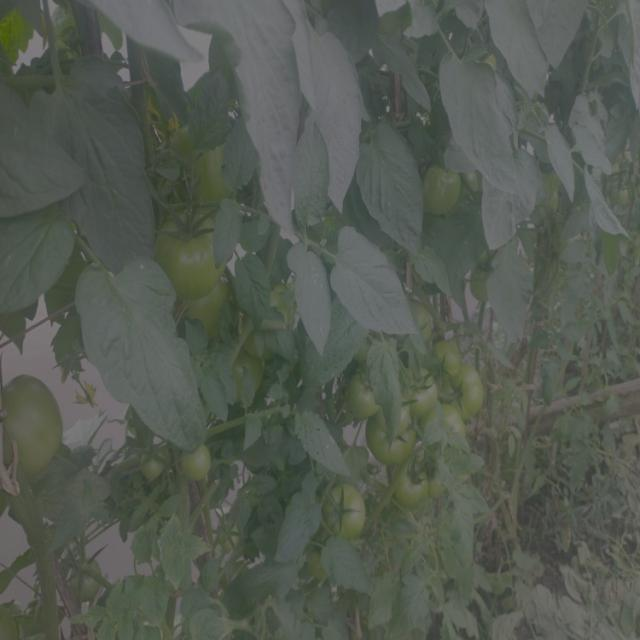tomato: (1, 373, 69, 479), (157, 205, 227, 286), (322, 482, 374, 538), (419, 155, 470, 212), (368, 400, 414, 459), (192, 143, 237, 201), (447, 373, 500, 413), (423, 410, 466, 454), (179, 440, 219, 484), (431, 340, 476, 377), (397, 460, 427, 511), (347, 364, 376, 414), (182, 288, 228, 316), (139, 444, 167, 486), (469, 259, 490, 311), (413, 304, 435, 333)
